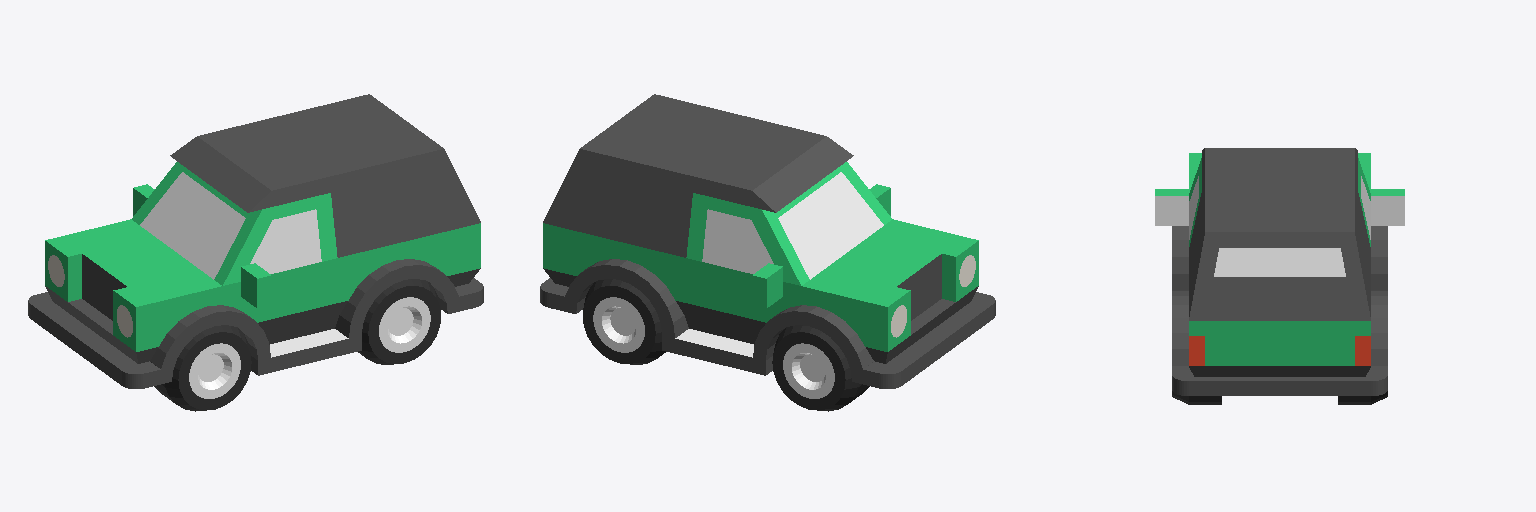
The picture shows the model from 3 angles: view 1: azimuth 30°, elevation 25°; view 2: azimuth 150°, elevation 25°; view 3: azimuth 270°, elevation 25°; orthographic projection.
Parts seen in each view (by area): view 1: body, wheel_frontLeft, wheel_backLeft; view 2: body, wheel_frontRight, wheel_backRight; view 3: body.
Boxes of the visible parts, x1=… form: body: x1=28, y1=94, x2=483, y2=388; wheel_frontLeft: x1=154, y1=325, x2=251, y2=411; wheel_backLeft: x1=358, y1=279, x2=440, y2=364; body: x1=540, y1=94, x2=995, y2=388; wheel_frontRight: x1=772, y1=325, x2=869, y2=411; wheel_backRight: x1=583, y1=279, x2=665, y2=364; body: x1=1155, y1=148, x2=1404, y2=395.
Size of the model in its own units: 1 by 0.52 by 0.6.